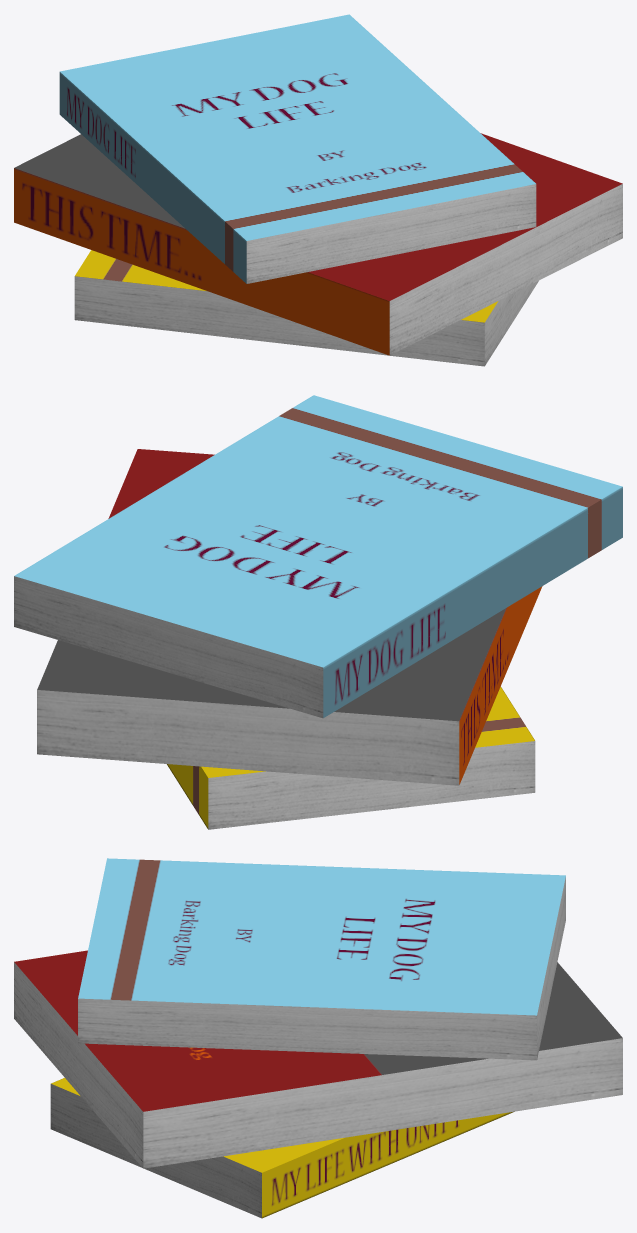
Rendered from Book_Pile_06.FBX.
The picture shows the model from 3 angles, top to bottom: view 1: azimuth 30°, elevation 25°; view 2: azimuth 150°, elevation 25°; view 3: azimuth 270°, elevation 25°; orthographic projection. The views are drawn at different scales.
Visible parts, largest first — view 1: Book_Pile_06; view 2: Book_Pile_06; view 3: Book_Pile_06.
Boxes of the visible parts, x1,y1,x2,y2 form: Book_Pile_06: (14,14,622,366); Book_Pile_06: (14,395,622,829); Book_Pile_06: (14,858,622,1218).
Bounding box in the file's own units: 0.2911 × 0.0988 × 0.3332.
